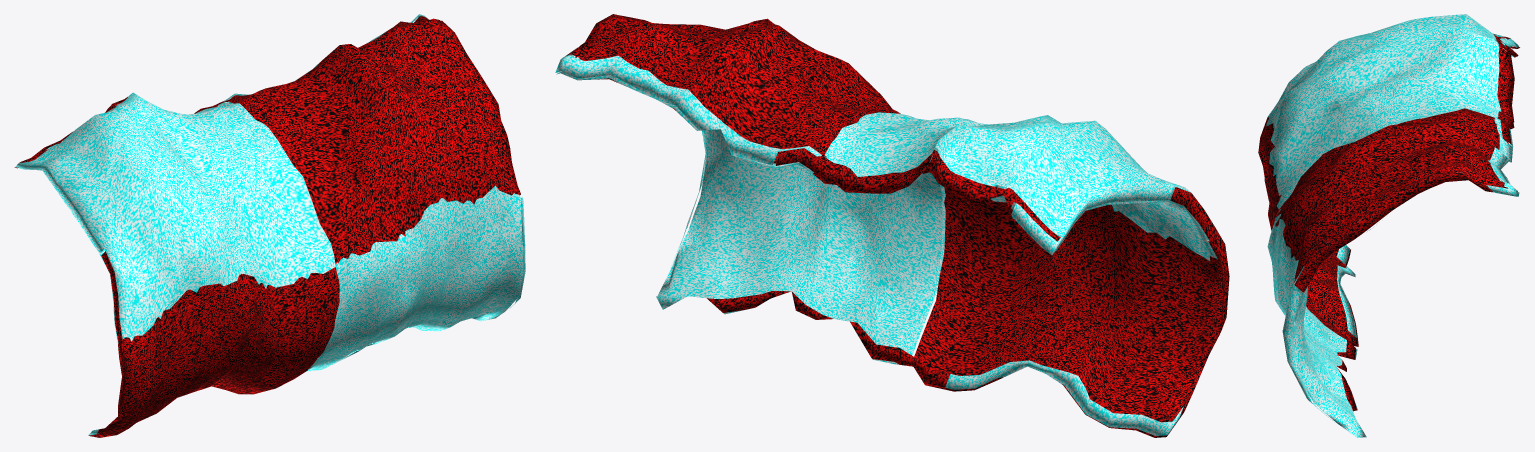
Rendered from SM_Tidal_Wave_01_RSW.fbx.
3 views of the same model, side by side, from view 1: azimuth 30°, elevation 25°; view 2: azimuth 150°, elevation 25°; view 3: azimuth 270°, elevation 25° (orthographic). The views are drawn at different scales.
Visible parts, largest first — view 1: SM_Tidal_Wave_01_RSW; view 2: SM_Tidal_Wave_01_RSW; view 3: SM_Tidal_Wave_01_RSW.
Part boxes in pixels (x1=…): SM_Tidal_Wave_01_RSW: x1=14, y1=14, x2=525, y2=437; SM_Tidal_Wave_01_RSW: x1=555, y1=14, x2=1229, y2=437; SM_Tidal_Wave_01_RSW: x1=1258, y1=14, x2=1519, y2=437.
Size of the model in its own units: 1458 by 949 by 775.
